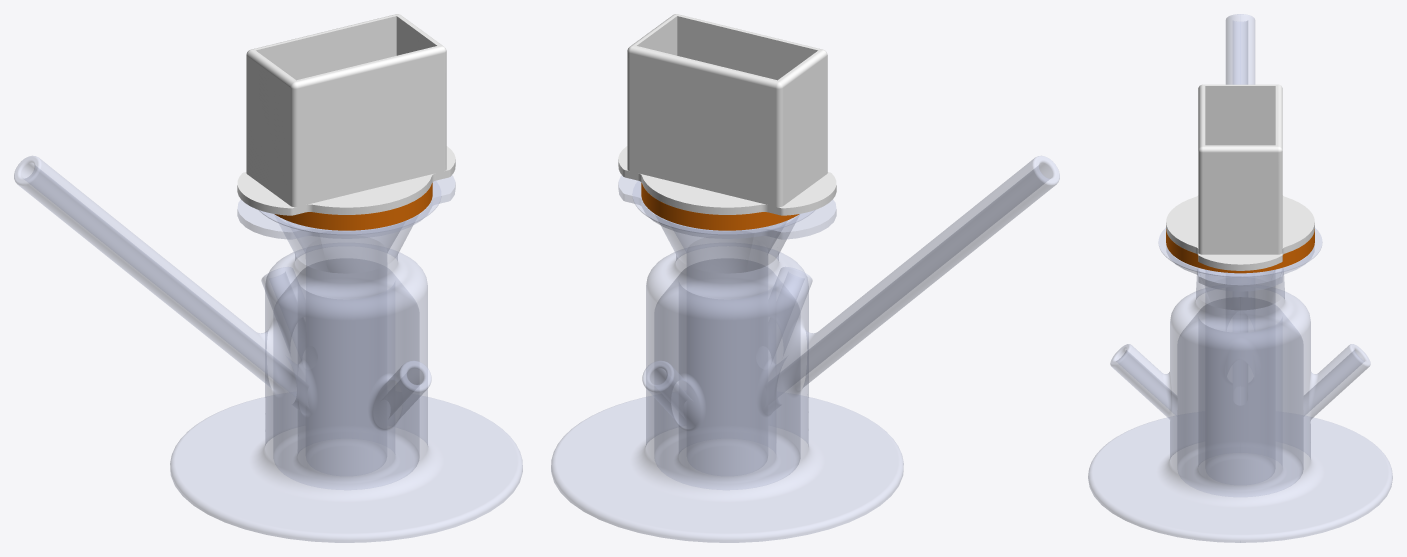
Rendered from DPcell.glb.
The picture shows the model from 3 angles, left to right: view 1: azimuth 30°, elevation 25°; view 2: azimuth 150°, elevation 25°; view 3: azimuth 270°, elevation 25°; orthographic projection. The views are drawn at different scales.
Parts seen in each view (by area): view 1: custom cell 4-1, customcap grid-1, 1500N103_High-Temperature Foam Ring-1, membrane-1; view 2: custom cell 4-1, customcap grid-1, 1500N103_High-Temperature Foam Ring-1, membrane-1; view 3: custom cell 4-1, customcap grid-1, 1500N103_High-Temperature Foam Ring-1, membrane-1.
Boxes of the visible parts, bbox=[...] form: custom cell 4-1: bbox=[14, 156, 522, 542]; customcap grid-1: bbox=[237, 14, 455, 215]; 1500N103_High-Temperature Foam Ring-1: bbox=[274, 182, 432, 230]; membrane-1: bbox=[259, 181, 441, 234]; custom cell 4-1: bbox=[551, 156, 1059, 542]; customcap grid-1: bbox=[618, 14, 836, 215]; 1500N103_High-Temperature Foam Ring-1: bbox=[641, 182, 799, 230]; membrane-1: bbox=[632, 181, 814, 234]; custom cell 4-1: bbox=[1088, 14, 1392, 542]; customcap grid-1: bbox=[1166, 84, 1314, 270]; 1500N103_High-Temperature Foam Ring-1: bbox=[1166, 229, 1314, 273]; membrane-1: bbox=[1158, 228, 1322, 276].
Bounding box in the file's own units: 0.1026 × 0.0854 × 0.065.
